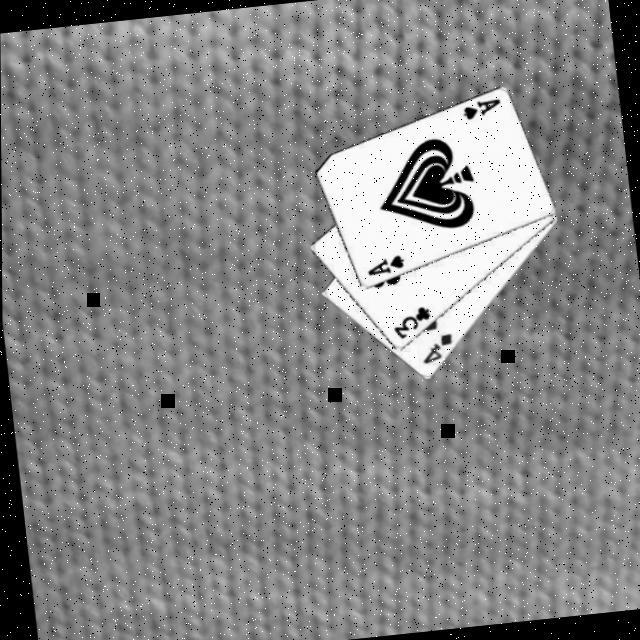3C: (389, 303, 435, 343)
4D: (417, 331, 457, 368)
AS: (459, 96, 505, 123), (362, 252, 407, 278)
